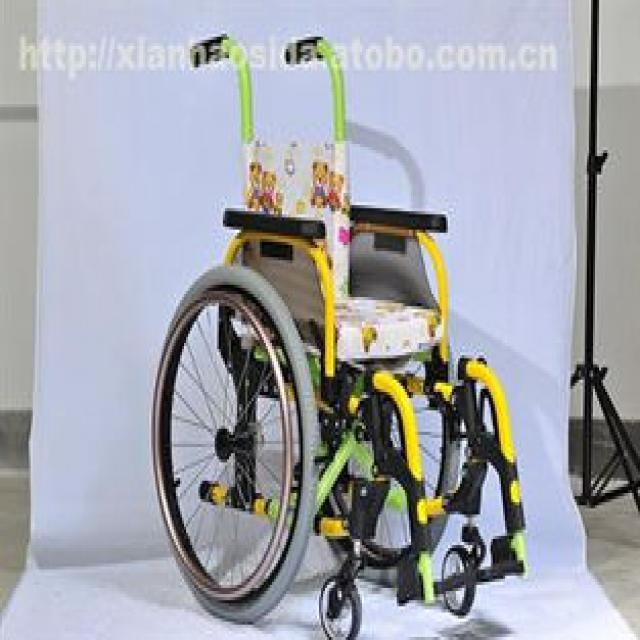wheelchair: (124, 21, 556, 631)
